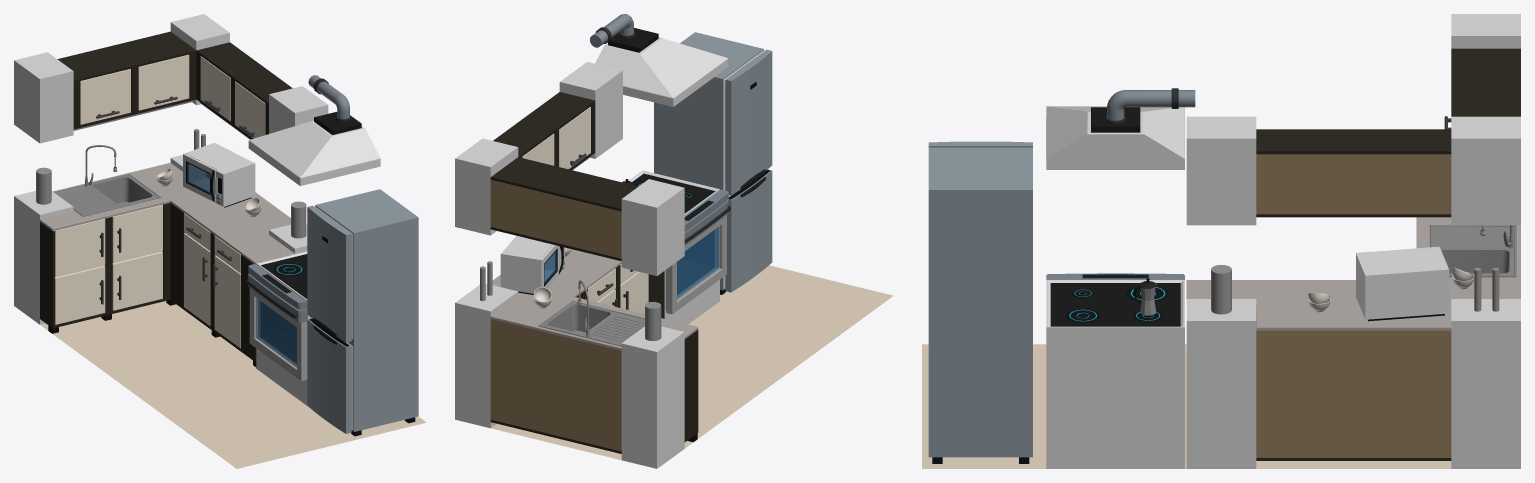
3 renders of one model, left to right at view 1: azimuth 30°, elevation 25°; view 2: azimuth 150°, elevation 25°; view 3: azimuth 270°, elevation 25°, orthographic. The views are drawn at different scales.
Parts seen in each view (by area): view 1: Kitchen_Pul_002, Fridge_001, Kitchen_345x170, Stove_001, Strang_006, Strang_003, Kitchen_Microwave_001, kitchen-sink, Strang_008, Strang_007, Strang_001, Sink_Tube_002 (+1 smaller); view 2: Kitchen_Pul_002, Fridge_001, Kitchen_345x170, Stove_001, Strang_003, Strang_006, Strang_002, Strang_007, Strang_008, Kitchen_Microwave_001, kitchen-sink, Air_Tube_001; view 3: Kitchen_Pul_002, Stove_001, Fridge_001, Strang_001, Strang_002, Strang_008, Strang_007, Kitchen_Microwave_001, Kitchen_345x170, kitchen-sink, Strang_006, Sink_Tube_002.
Part boxes in pixels (bbox=[...]): Kitchen_Pul_002: bbox=[40, 31, 294, 367]; Fridge_001: bbox=[307, 189, 418, 436]; Kitchen_345x170: bbox=[40, 301, 426, 468]; Stove_001: bbox=[246, 75, 380, 406]; Strang_006: bbox=[14, 52, 73, 143]; Strang_003: bbox=[14, 191, 73, 324]; Kitchen_Microwave_001: bbox=[183, 143, 255, 207]; kitchen-sink: bbox=[54, 145, 161, 216]; Strang_008: bbox=[269, 86, 328, 133]; Strang_007: bbox=[170, 14, 229, 105]; Strang_001: bbox=[269, 224, 307, 253]; Sink_Tube_002: bbox=[291, 201, 306, 238]; Kitchen_Pul_002: bbox=[490, 92, 698, 453]; Fridge_001: bbox=[654, 32, 772, 294]; Kitchen_345x170: bbox=[491, 265, 893, 460]; Stove_001: bbox=[590, 14, 730, 324]; Strang_003: bbox=[621, 326, 684, 468]; Strang_006: bbox=[621, 179, 684, 275]; Strang_002: bbox=[455, 283, 518, 428]; Strang_007: bbox=[455, 138, 518, 235]; Strang_008: bbox=[559, 62, 622, 158]; Kitchen_Microwave_001: bbox=[500, 235, 564, 294]; kitchen-sink: bbox=[538, 280, 644, 346]; Air_Tube_001: bbox=[645, 302, 661, 340]; Kitchen_Pul_002: bbox=[1186, 48, 1520, 460]; Stove_001: bbox=[1046, 88, 1195, 468]; Fridge_001: bbox=[928, 141, 1032, 463]; Strang_001: bbox=[1186, 299, 1256, 468]; Strang_002: bbox=[1451, 299, 1520, 468]; Strang_008: bbox=[1186, 116, 1256, 225]; Strang_007: bbox=[1451, 116, 1520, 225]; Kitchen_Microwave_001: bbox=[1356, 246, 1449, 321]; Kitchen_345x170: bbox=[922, 344, 1451, 468]; kitchen-sink: bbox=[1429, 225, 1516, 277]; Strang_006: bbox=[1451, 14, 1520, 48]; Sink_Tube_002: bbox=[1211, 265, 1231, 314].
Bounding box in the file's own units: 170 × 237 × 345.
